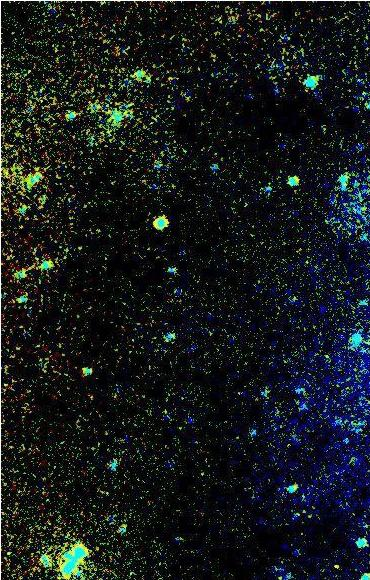star: (320, 551, 350, 580)
